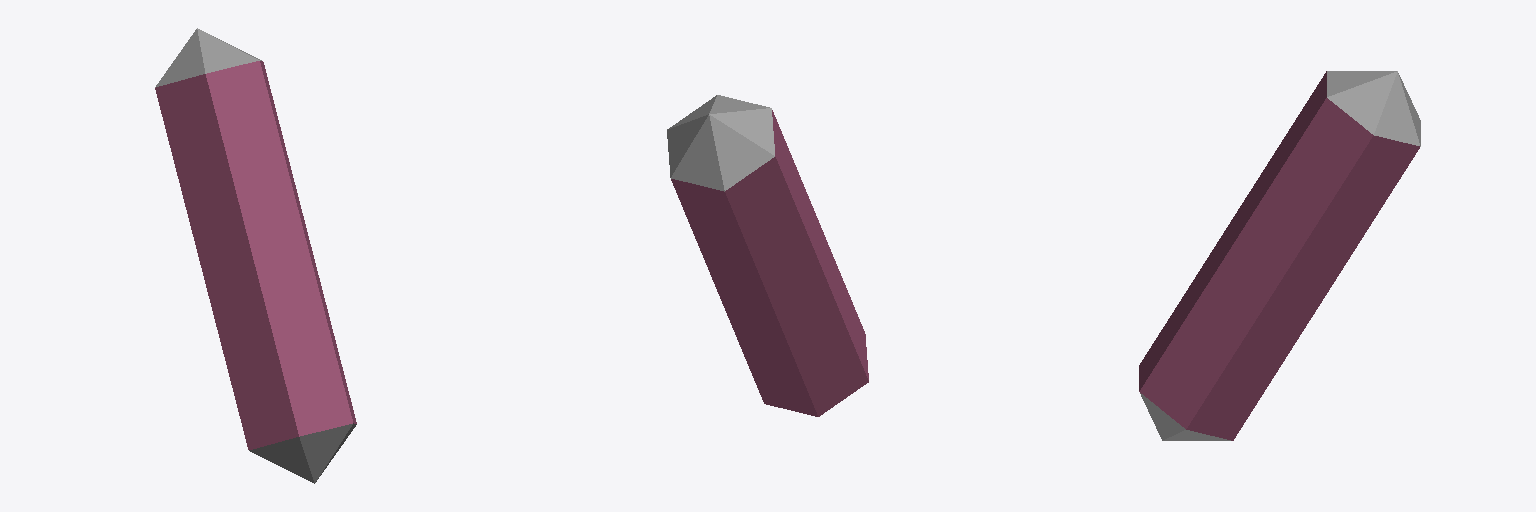
The model's file is hex_crystal_30_med.obj.
3 views of the same model, side by side, from view 1: azimuth 30°, elevation 25°; view 2: azimuth 150°, elevation 25°; view 3: azimuth 270°, elevation 25° (orthographic).
Parts seen in each view (by area): view 1: Cylinder; view 2: Cylinder; view 3: Cylinder.
Boxes of the visible parts, x1=… form: Cylinder: x1=155, y1=28, x2=356, y2=483; Cylinder: x1=667, y1=95, x2=868, y2=416; Cylinder: x1=1139, y1=71, x2=1420, y2=440.
Size of the model in its own units: 0.5 by 1.63 by 1.12.